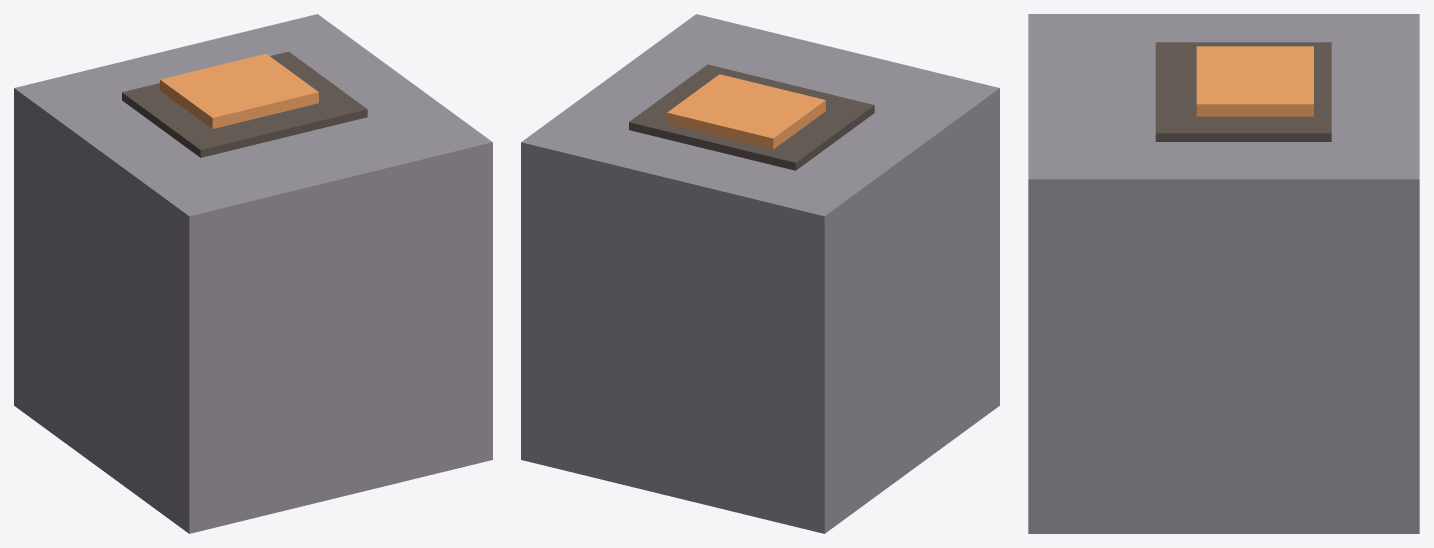
The model's file is 39_furnace.glb.
3 renders of one model, left to right at view 1: azimuth 30°, elevation 25°; view 2: azimuth 150°, elevation 25°; view 3: azimuth 270°, elevation 25°, orthographic. The views are drawn at different scales.
Visible parts, largest first — view 1: Core, Opening, Fire; view 2: Core, Opening, Fire; view 3: Core, Opening, Fire.
Boxes of the visible parts, bbox=[...] form: Core: bbox=[14, 14, 492, 533]; Opening: bbox=[122, 51, 367, 157]; Fire: bbox=[160, 53, 318, 128]; Core: bbox=[521, 14, 999, 533]; Opening: bbox=[629, 64, 874, 170]; Fire: bbox=[667, 74, 825, 149]; Core: bbox=[1028, 14, 1419, 533]; Opening: bbox=[1155, 42, 1331, 141]; Fire: bbox=[1196, 46, 1313, 116].
Size of the model in its own units: 1 by 1.06 by 1.
